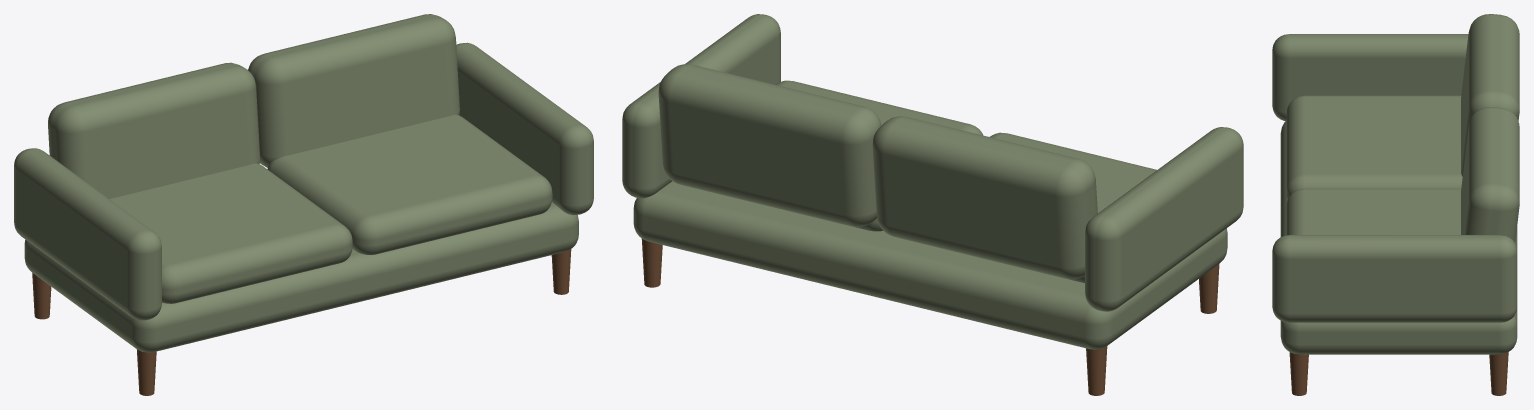
The model's file is sunday-sofa-moss.glb.
3 views of the same model, side by side, from view 1: azimuth 30°, elevation 25°; view 2: azimuth 150°, elevation 25°; view 3: azimuth 270°, elevation 25° (orthographic). The views are drawn at different scales.
Parts seen in each view (by area): view 1: The Sunday Sofa — Moss; view 2: The Sunday Sofa — Moss; view 3: The Sunday Sofa — Moss.
Part boxes in pixels (bbox=[...]): The Sunday Sofa — Moss: bbox=[14, 14, 593, 395]; The Sunday Sofa — Moss: bbox=[622, 14, 1243, 395]; The Sunday Sofa — Moss: bbox=[1272, 14, 1519, 395].
Bounding box in the file's own units: 1.86 × 0.79 × 0.9.
